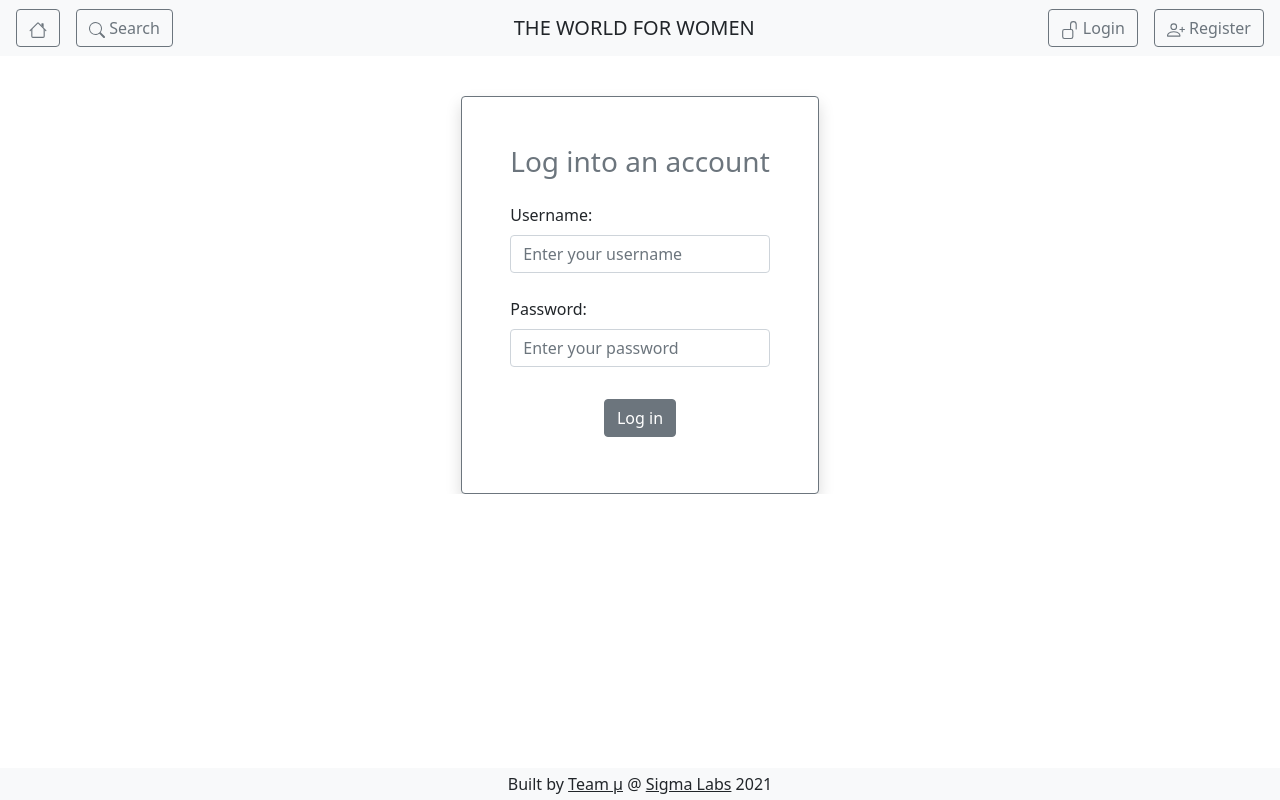
Test: Website having links to different domain paths › renders a Register link which redirects to correct route
Step 1. Click the button "Register" → (1209, 28), box x1=1154 y1=9 x2=1264 y2=47
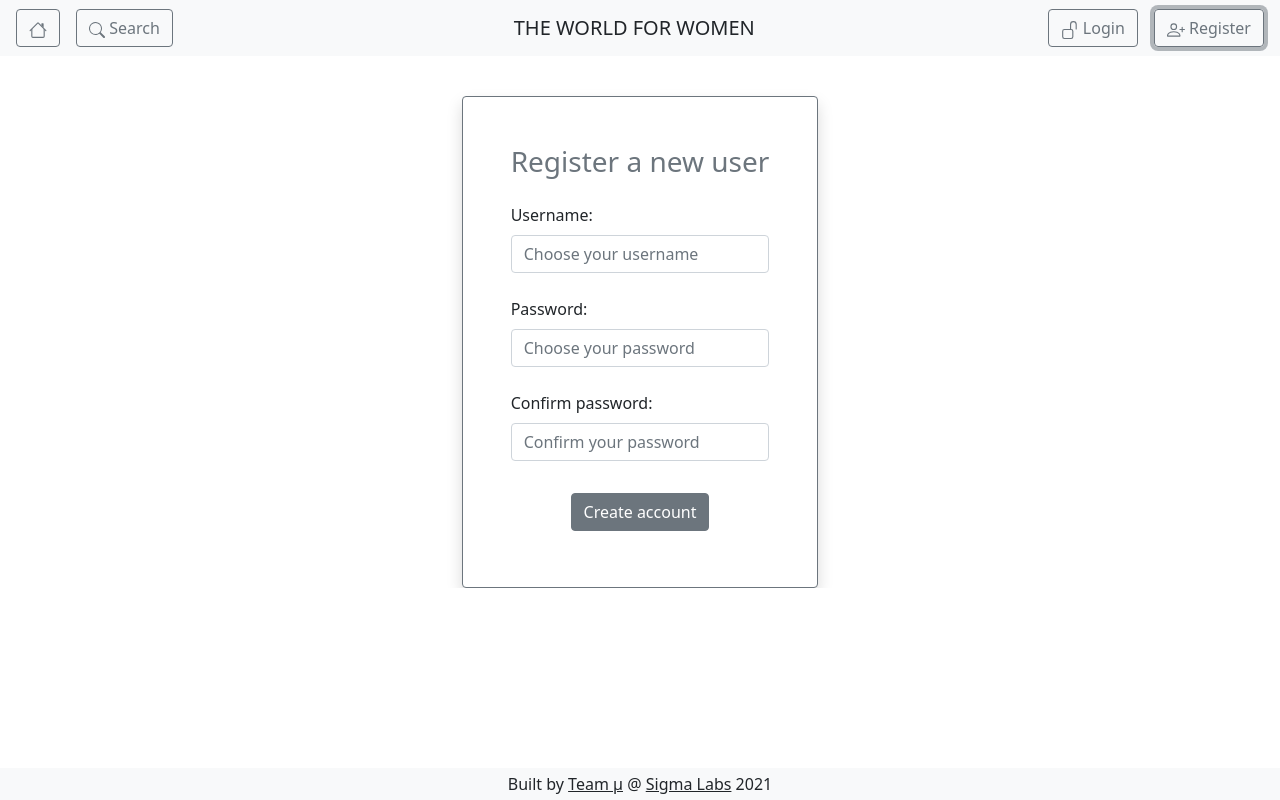
Check: the heading "Register a new user" is shown, box x1=511 y1=145 x2=769 y2=195
